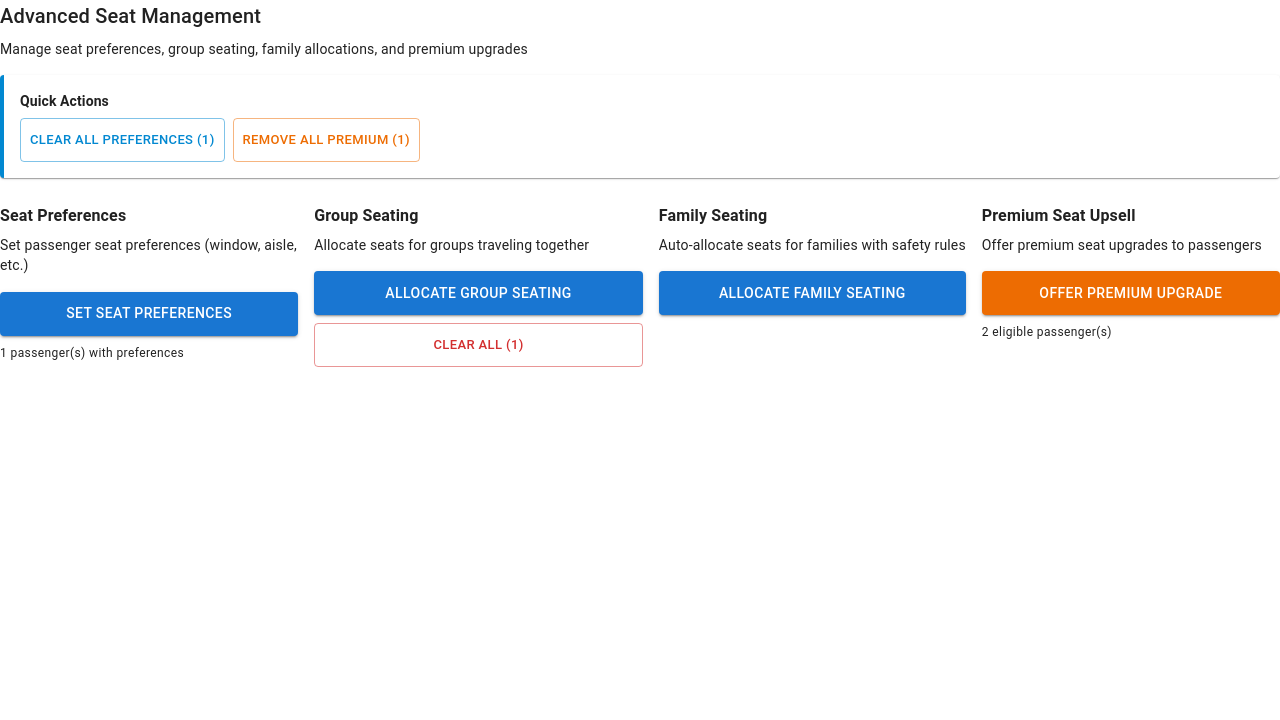
Test: SeatManagementTab › Action Buttons › should open passenger selection dialog for premium upgrade
This screenshot has width=1280, height=720.
Step 1. Click the button "Offer Premium Upgrade" → (1131, 294), box [982,272,1279,316]
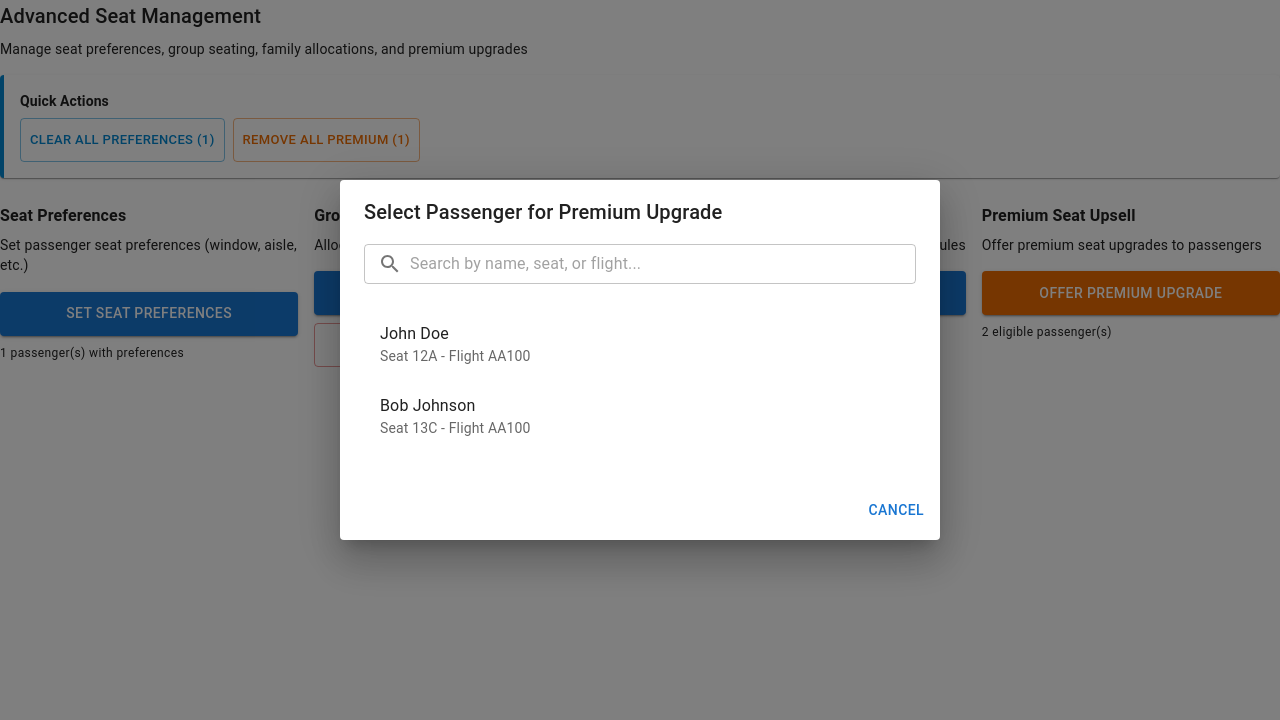
Check: the heading "Select Passenger for Premium Upgrade" is shown, box [364,200,722,224]
